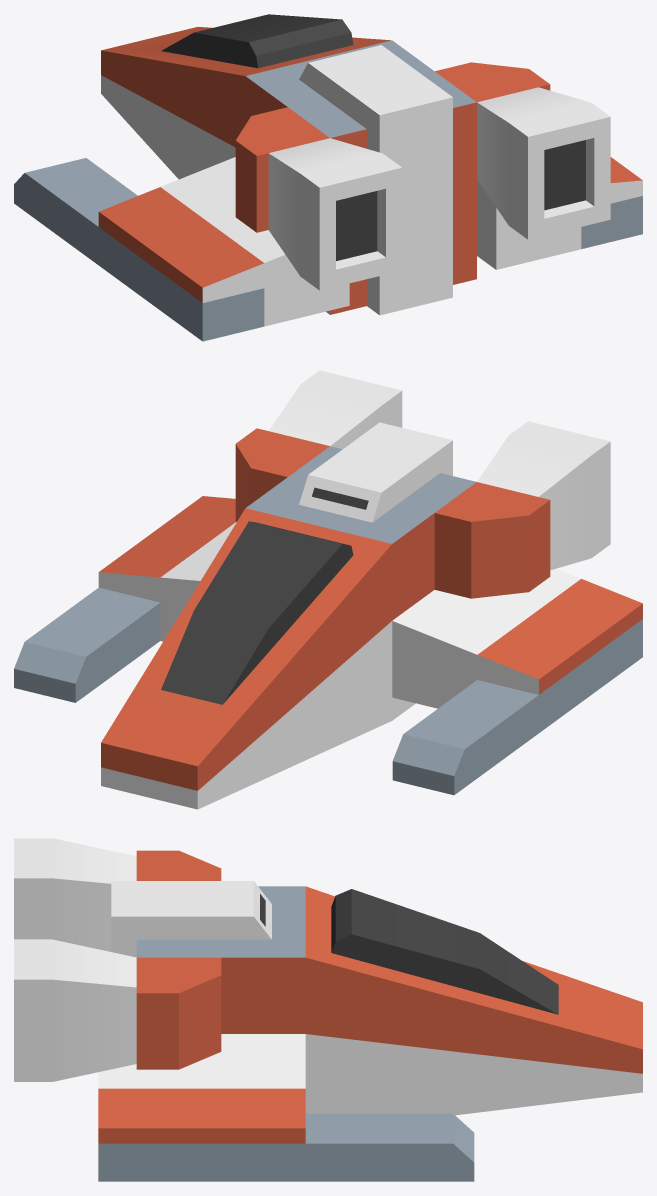
The model's file is ship.obj.
3 views of the same model, one above another, from view 1: azimuth 30°, elevation 25°; view 2: azimuth 150°, elevation 25°; view 3: azimuth 270°, elevation 25° (orthographic).
Parts seen in each view (by area): view 1: ship; view 2: ship; view 3: ship.
Boxes of the visible parts, <box> form: ship: <box>14,14,642,341</box>; ship: <box>14,370,642,809</box>; ship: <box>14,838,642,1181</box>.
Size of the model in its own units: 11.85 by 5.15 by 14.72.
